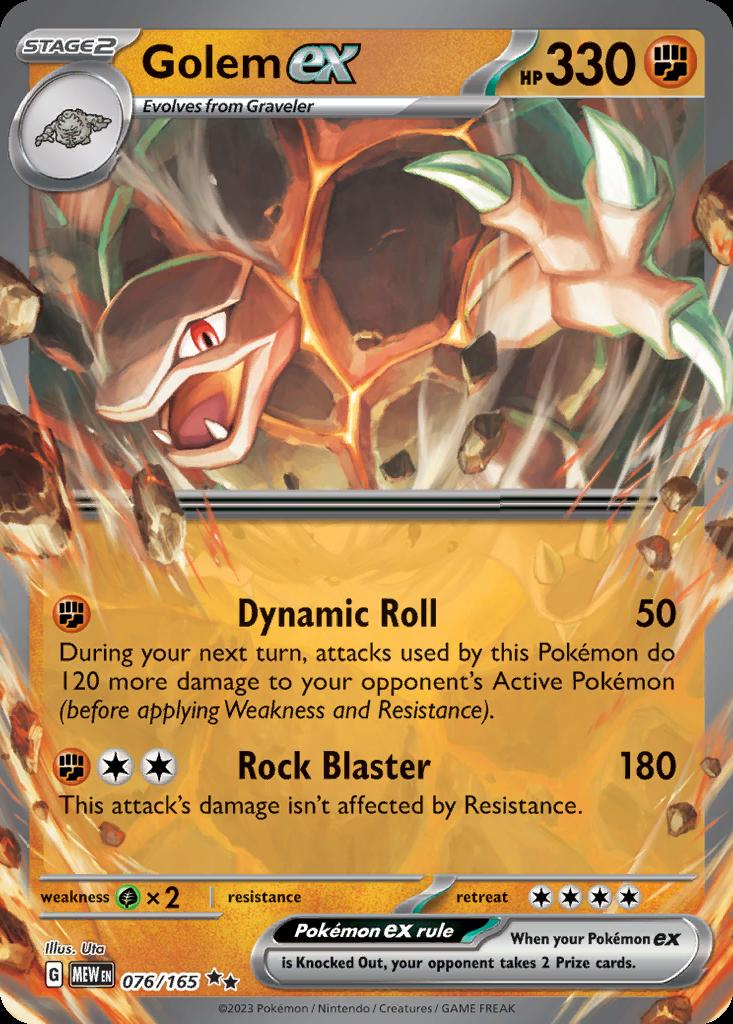card: (1, 4, 733, 1024)
hp: (493, 26, 707, 103)
name: (131, 23, 377, 94)
set num: (116, 957, 243, 1000)
set symbol: (31, 937, 114, 993)
